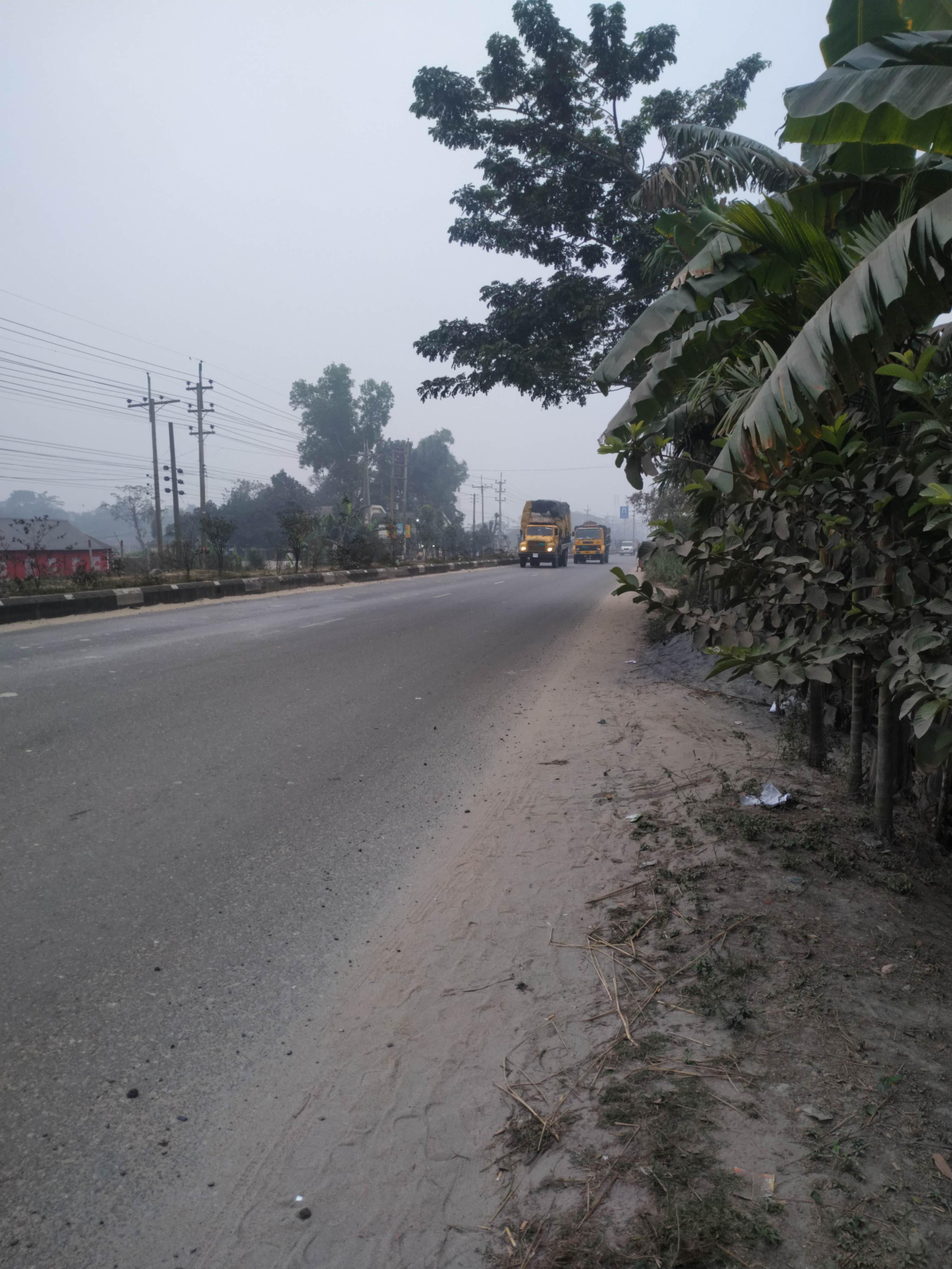Truck: (506, 493, 578, 571), (566, 513, 616, 575)
